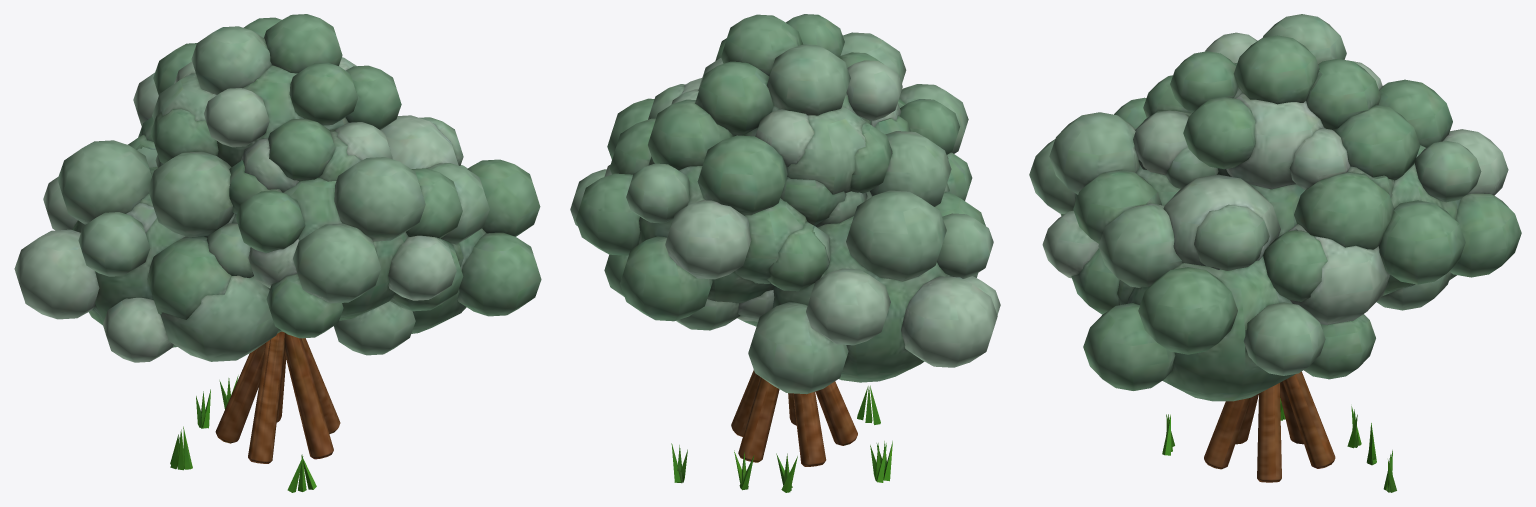
Rendered from sea_buckthorn_tree.glb.
3 views of the same model, side by side, from view 1: azimuth 30°, elevation 25°; view 2: azimuth 150°, elevation 25°; view 3: azimuth 270°, elevation 25° (orthographic). The views are drawn at different scales.
Visible parts, largest first — view 1: crown, sea_buckthorn_tree; view 2: crown, sea_buckthorn_tree; view 3: crown, sea_buckthorn_tree.
Boxes of the visible parts, x1,y1,x2,y2 form: crown: (14,14,541,362); sea_buckthorn_tree: (170,331,340,492); crown: (570,14,1000,394); sea_buckthorn_tree: (671,370,892,492); crown: (1029,14,1521,401); sea_buckthorn_tree: (1162,371,1396,492).
Bounding box in the file's own units: 1.14 × 1.04 × 1.06.
1 material, 1 textured.
